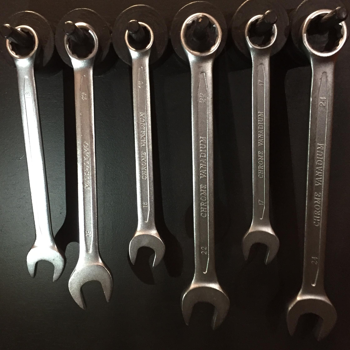bottom: (282, 292, 340, 344), (180, 285, 230, 334), (67, 260, 114, 310), (23, 240, 66, 283), (239, 223, 280, 267), (127, 230, 166, 270)
top: (298, 6, 347, 64), (176, 10, 224, 60), (241, 10, 281, 56), (61, 20, 101, 65), (3, 22, 41, 64), (121, 17, 155, 55)
